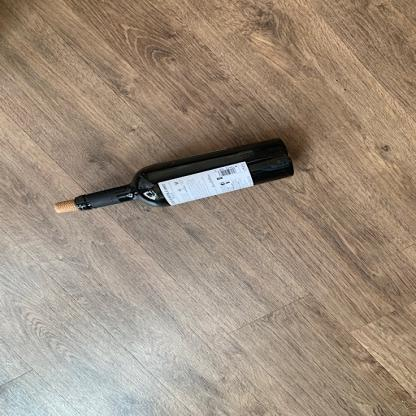trash: (75, 137, 298, 238)
